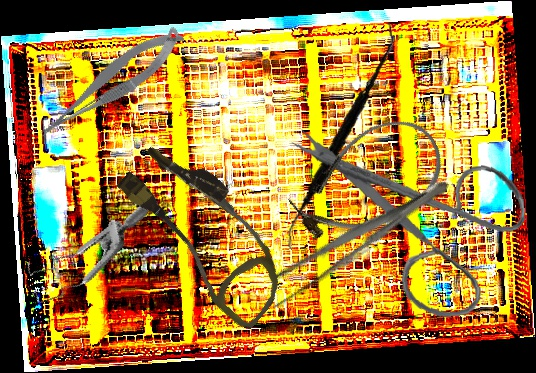Cannula: (100, 131, 311, 334), (277, 103, 459, 261)
Dressing Forceps: (259, 168, 457, 314)
Iris Scissors: (289, 106, 535, 332)
Micro Scissor: (25, 20, 195, 145)
Spatula Surgical: (267, 23, 411, 249)
Speculum: (14, 172, 150, 330)
